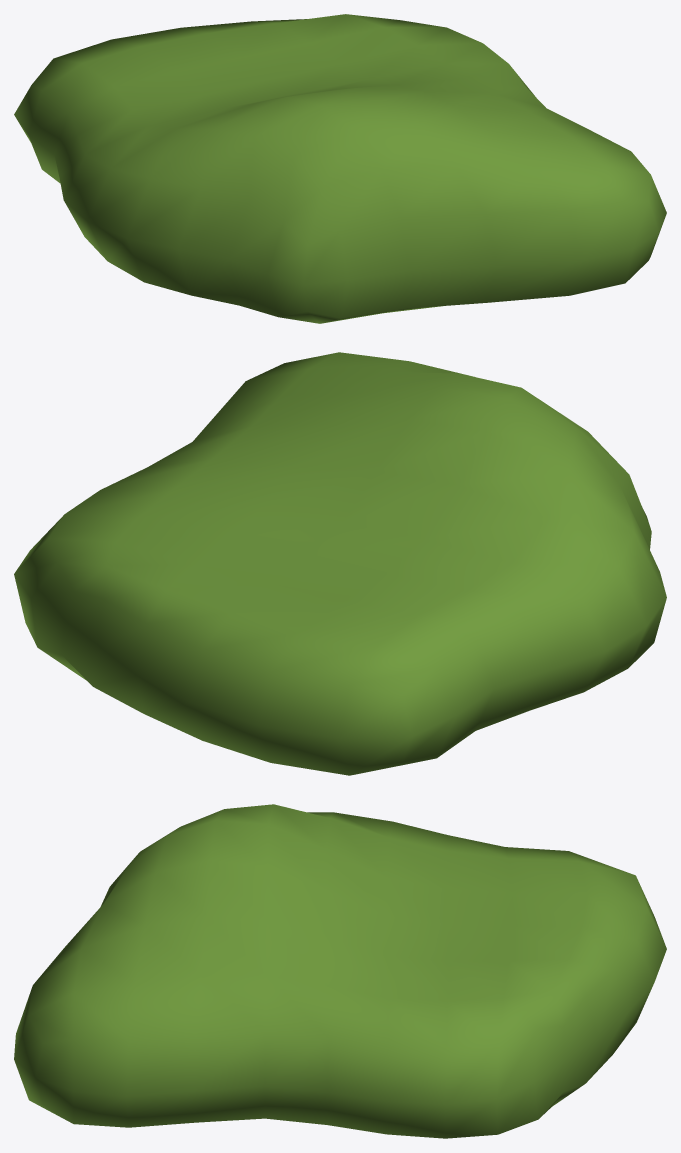
The model's file is Schleim.FBX.
3 renders of one model, top to bottom at view 1: azimuth 30°, elevation 25°; view 2: azimuth 150°, elevation 25°; view 3: azimuth 270°, elevation 25°, orthographic. The views are drawn at different scales.
Parts seen in each view (by area): view 1: Box001; view 2: Box001; view 3: Box001.
Part boxes in pixels (left/top/right/bottom): Box001: left=14, top=14, right=666, bottom=323; Box001: left=14, top=352, right=666, bottom=775; Box001: left=14, top=804, right=666, bottom=1138.
Bounding box in the file's own units: 14.38 × 5.07 × 16.24.
